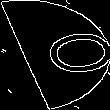O_W: (8, 27, 102, 83)
